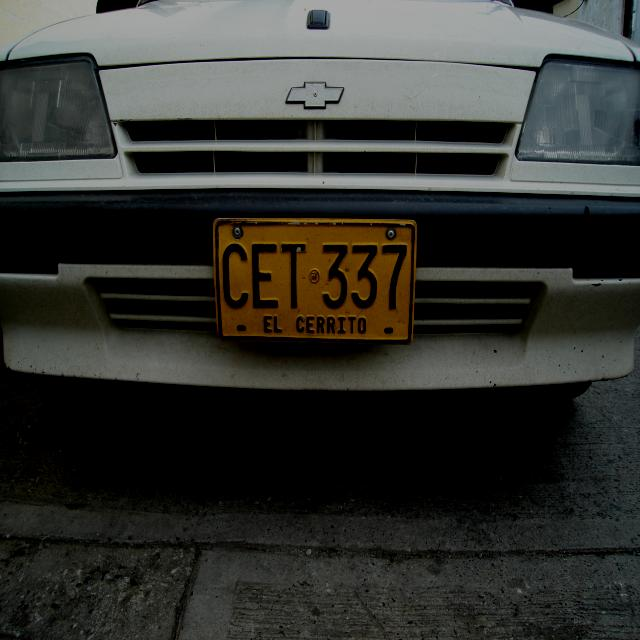placa: (208, 210, 420, 349)
